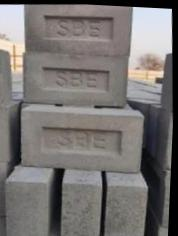brick: (16, 102, 149, 176), (20, 48, 134, 113), (22, 1, 136, 58), (2, 180, 50, 236), (58, 182, 106, 236), (100, 183, 148, 236)
